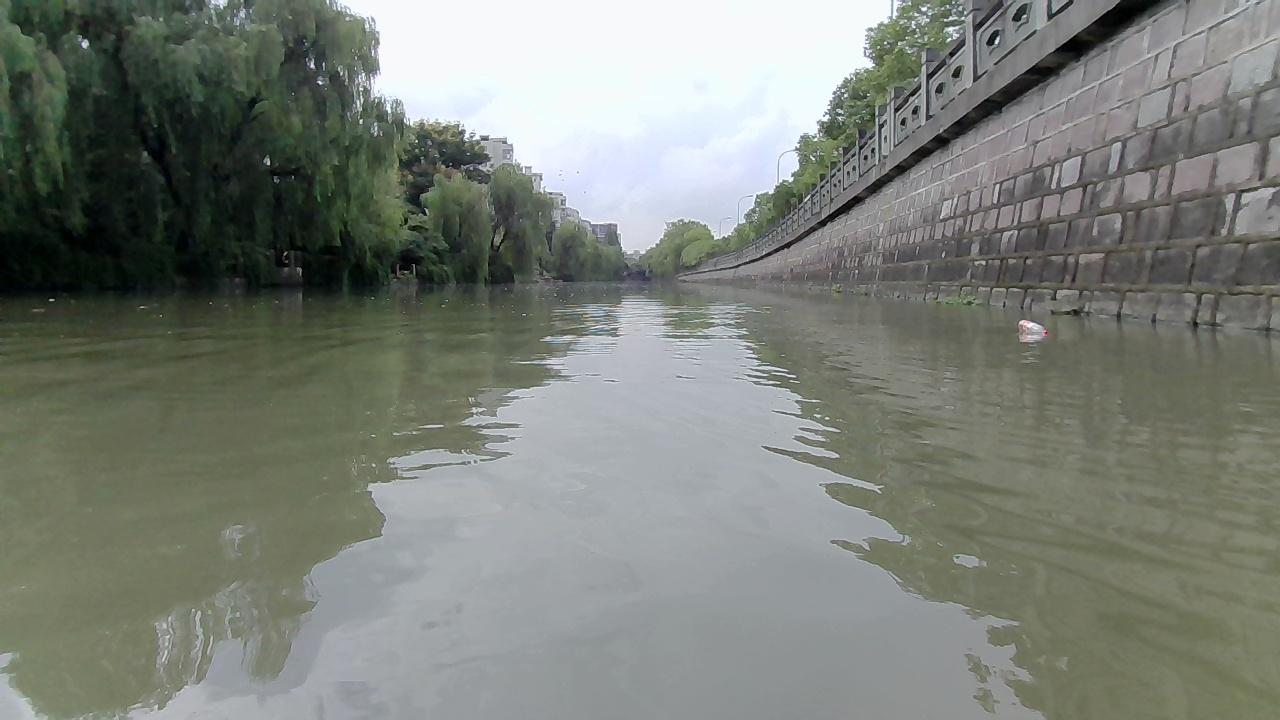bottle: (1016, 318, 1048, 333)
